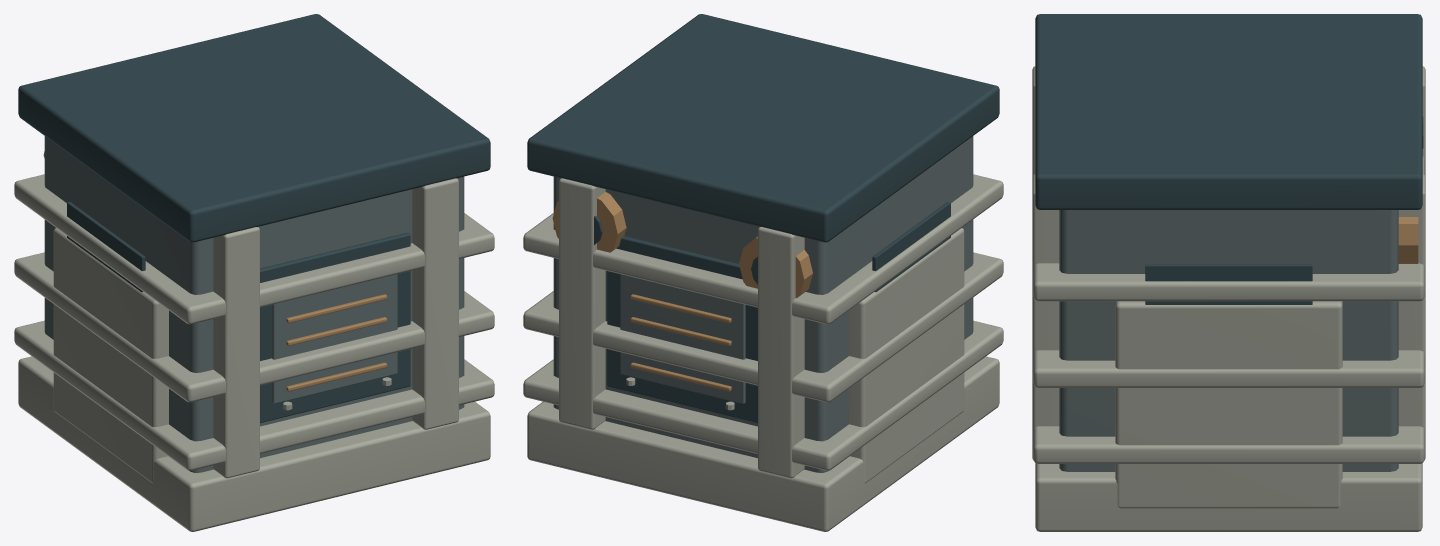
File: abutment-0.glb
3 renders of one model, left to right at view 1: azimuth 30°, elevation 25°; view 2: azimuth 150°, elevation 25°; view 3: azimuth 270°, elevation 25°, orthographic. The views are drawn at different scales.
Visible parts, largest first — view 1: abutment_1, abutment_2, abutment_0, abutment_3; view 2: abutment_1, abutment_2, abutment_0, abutment_3; view 3: abutment_1, abutment_2, abutment_0, abutment_3.
Boxes of the visible parts, x1=… form: abutment_1: x1=14, y1=174, x2=494, y2=531; abutment_2: x1=18, y1=14, x2=490, y2=422; abutment_0: x1=44, y1=136, x2=464, y2=472; abutment_3: x1=43, y1=151, x2=387, y2=391; abutment_1: x1=523, y1=174, x2=1003, y2=531; abutment_2: x1=527, y1=14, x2=999, y2=422; abutment_0: x1=553, y1=136, x2=973, y2=472; abutment_3: x1=552, y1=192, x2=812, y2=391; abutment_1: x1=1032, y1=66, x2=1425, y2=531; abutment_2: x1=1035, y1=14, x2=1423, y2=304; abutment_0: x1=1059, y1=210, x2=1398, y2=471; abutment_3: x1=1398, y1=217, x2=1418, y2=263.
Size of the model in its own units: 0.99 by 0.99 by 0.985.
